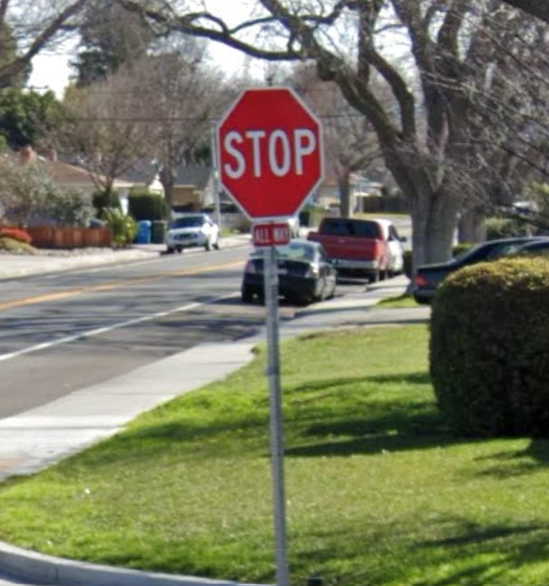stop_sign: (217, 88, 321, 217)
